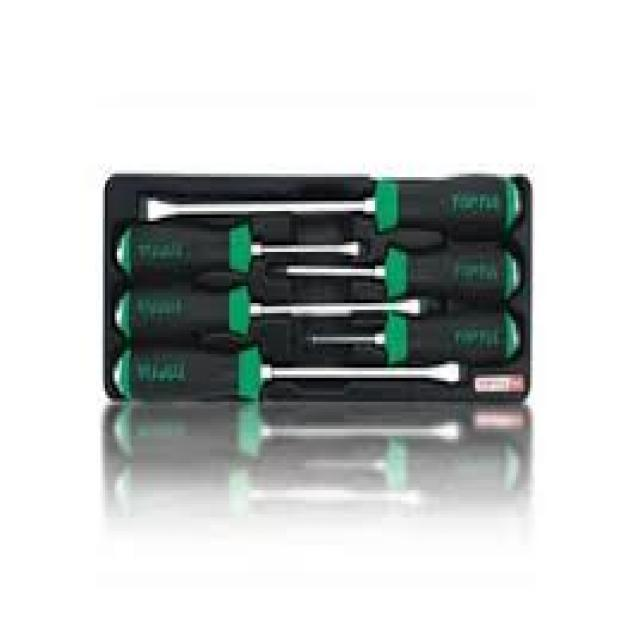screwdriver: (136, 165, 523, 240), (112, 277, 432, 349), (112, 347, 475, 405), (260, 233, 523, 301), (298, 303, 526, 371), (114, 221, 370, 279)
